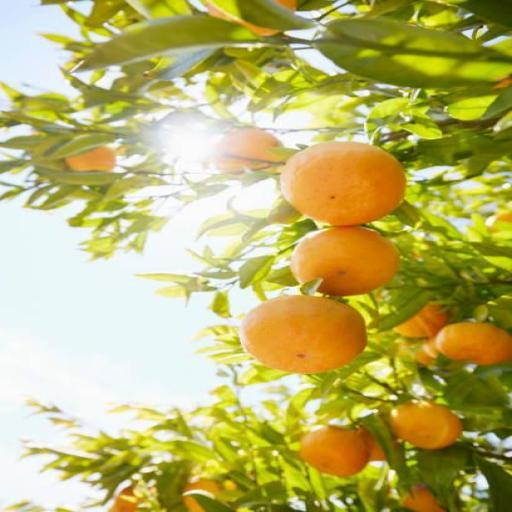orange: (282, 142, 406, 225), (240, 296, 366, 373), (292, 227, 399, 296)
